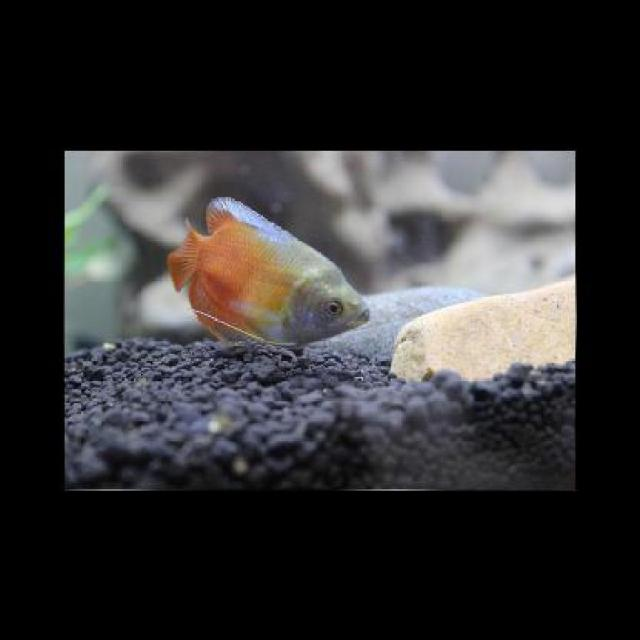Gourami: (170, 195, 372, 343)
